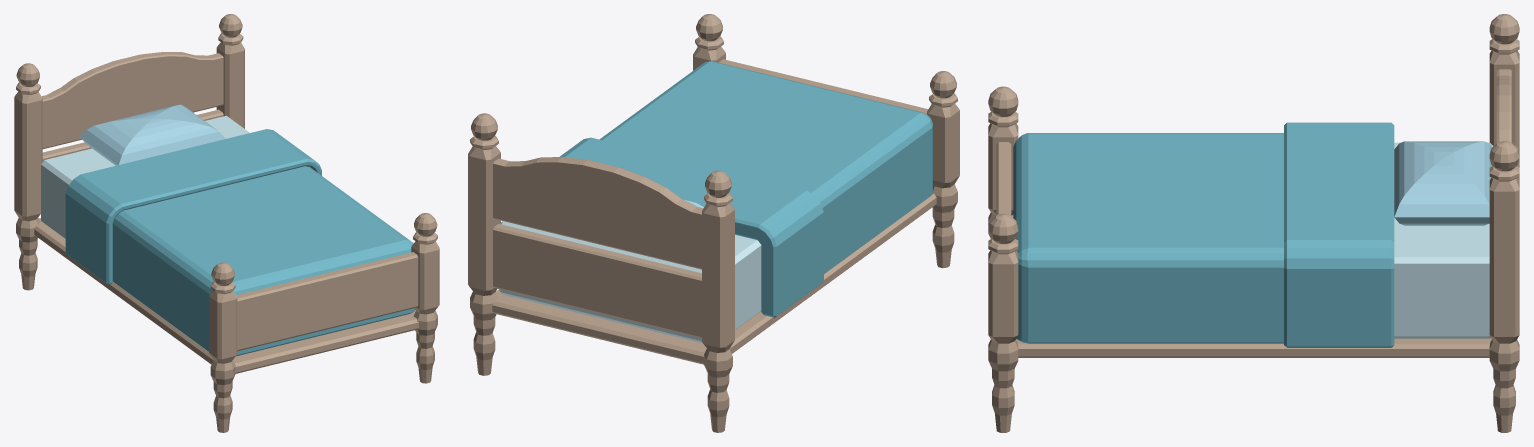
Rendered from Prop_Bedroom_Bed_Single.fbx.
The picture shows the model from 3 angles, left to right: view 1: azimuth 30°, elevation 25°; view 2: azimuth 150°, elevation 25°; view 3: azimuth 270°, elevation 25°; orthographic projection. The views are drawn at different scales.
Visible parts, largest first — view 1: object3.004, object4.004, object2.006, object1.008; view 2: object4.004, object3.004, object1.008; view 3: object3.004, object4.004, object1.008, object2.006.
Part boxes in pixels (left/top/right/bottom): object3.004: left=65, top=129, right=414, bottom=356; object4.004: left=14, top=14, right=439, bottom=432; object2.006: left=80, top=104, right=225, bottom=165; object1.008: left=41, top=115, right=249, bottom=238; object4.004: left=468, top=14, right=959, bottom=432; object3.004: left=559, top=61, right=932, bottom=317; object1.008: left=499, top=221, right=761, bottom=343; object3.004: left=1013, top=122, right=1394, bottom=347; object4.004: left=988, top=14, right=1519, bottom=432; object1.008: left=1394, top=142, right=1493, bottom=338; object2.006: left=1394, top=141, right=1492, bottom=225.
Size of the model in its own units: 165 by 158 by 265.
